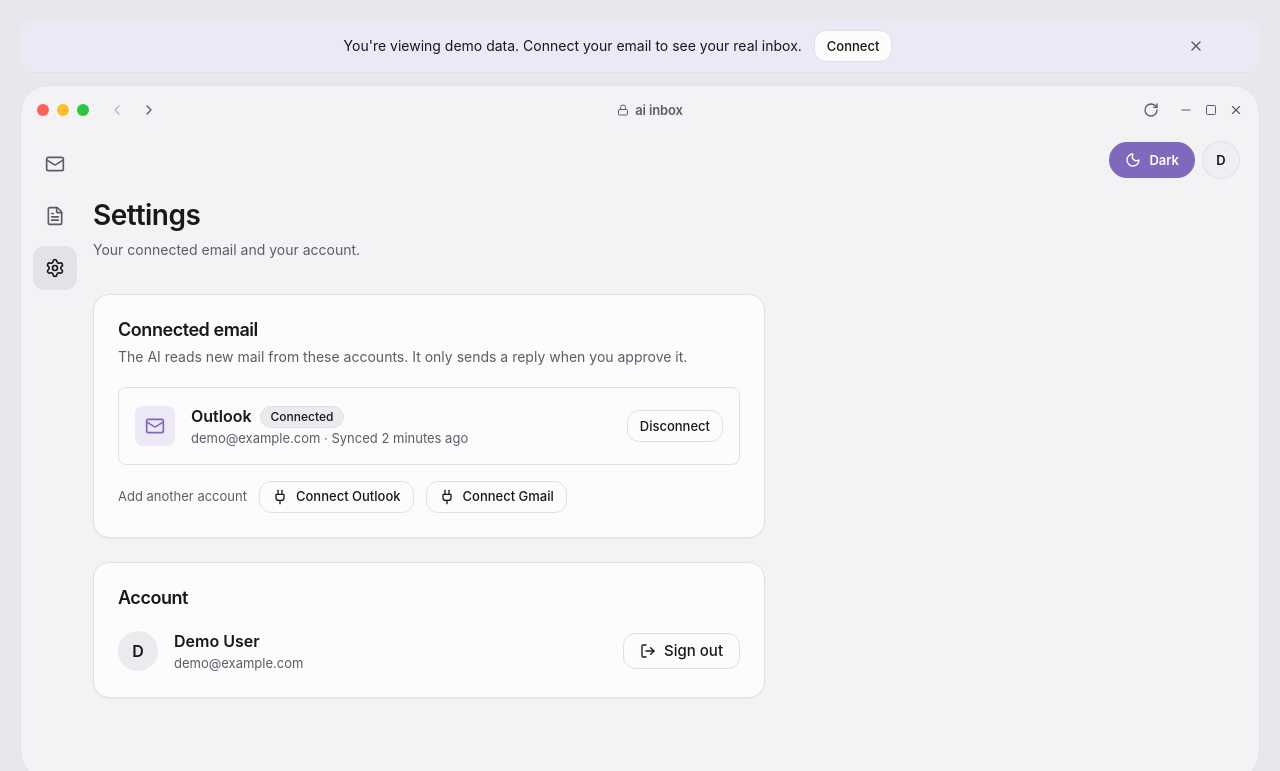
Test case: app › adds a second account from the same provider
Expected: the text "demo@example.com · Synced 2 minutes ago" is shown, x1=191 y1=430 x2=468 y2=446
What coordinates should you click on to do the following:
click the button "Connect Outlook"
I would click on:
 (336, 497)
Its box is x1=259 y1=481 x2=414 y2=513.
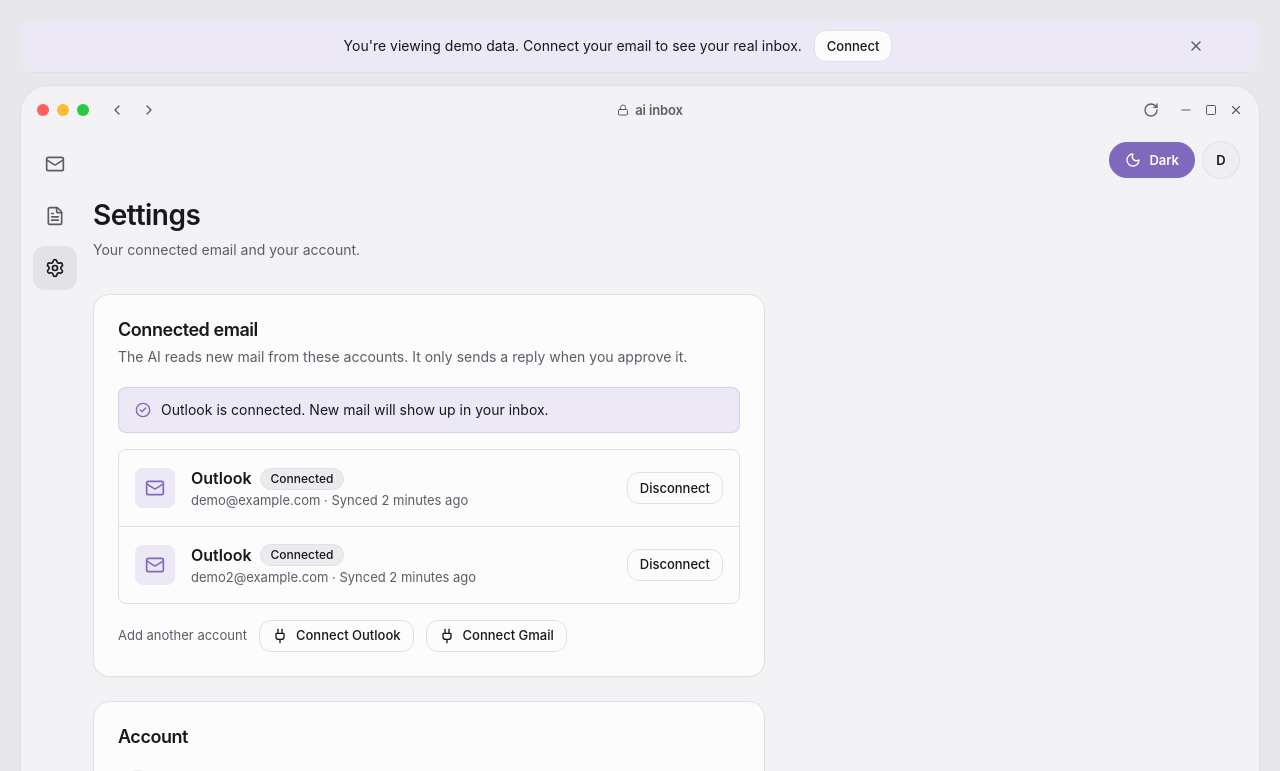
Expected: the text "demo@example.com · Synced 2 minutes ago" is shown, x1=191 y1=492 x2=468 y2=508
Expected: the text "demo2@example.com · Synced 2 minutes ago" is shown, x1=191 y1=569 x2=476 y2=585
